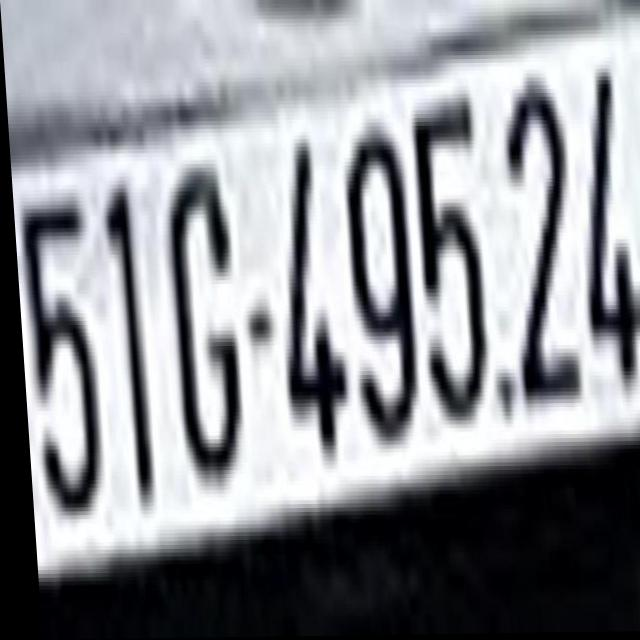1: (92, 153, 156, 507)
2: (499, 83, 579, 401)
4: (265, 120, 347, 470), (569, 28, 640, 377)
5: (15, 189, 97, 512), (408, 107, 491, 414)
9: (337, 100, 421, 462)
G: (161, 141, 245, 491)
